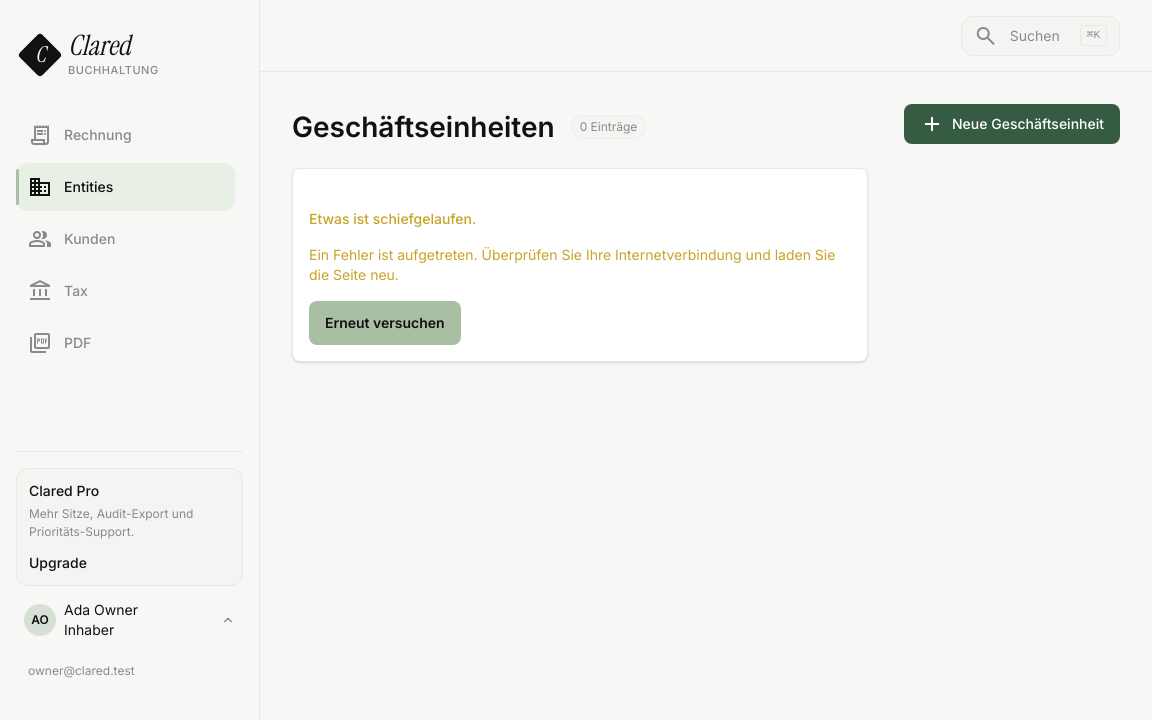
Test: Entities List+Panel › renders localized error copy and retry re-executes the live entities loader
expect the text "Etwas ist schiefgelaufen." is shown: met, box [309, 210, 476, 227]
Click the button "Erneut versuchen" at (385, 323), box [309, 301, 461, 345]
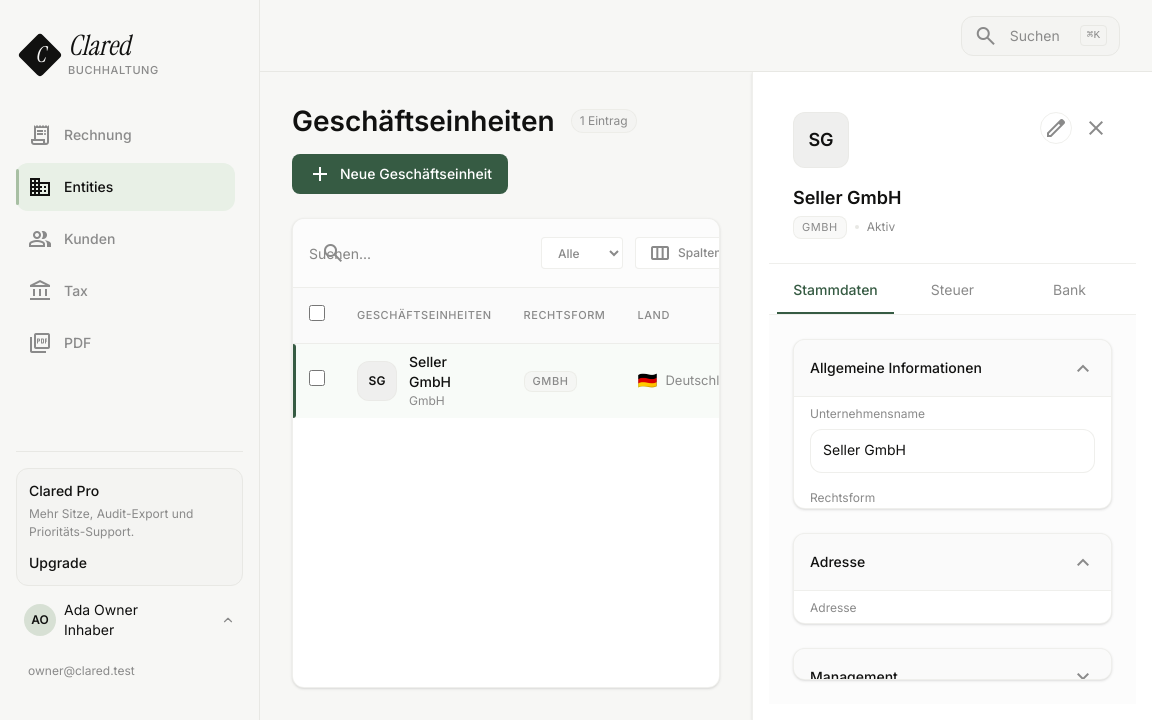
expect the button with test id "entity-row" is shown: met, box [357, 352, 492, 410]
expect the element with test id "entity-detail" is shown: met, box [752, 72, 1151, 719]
